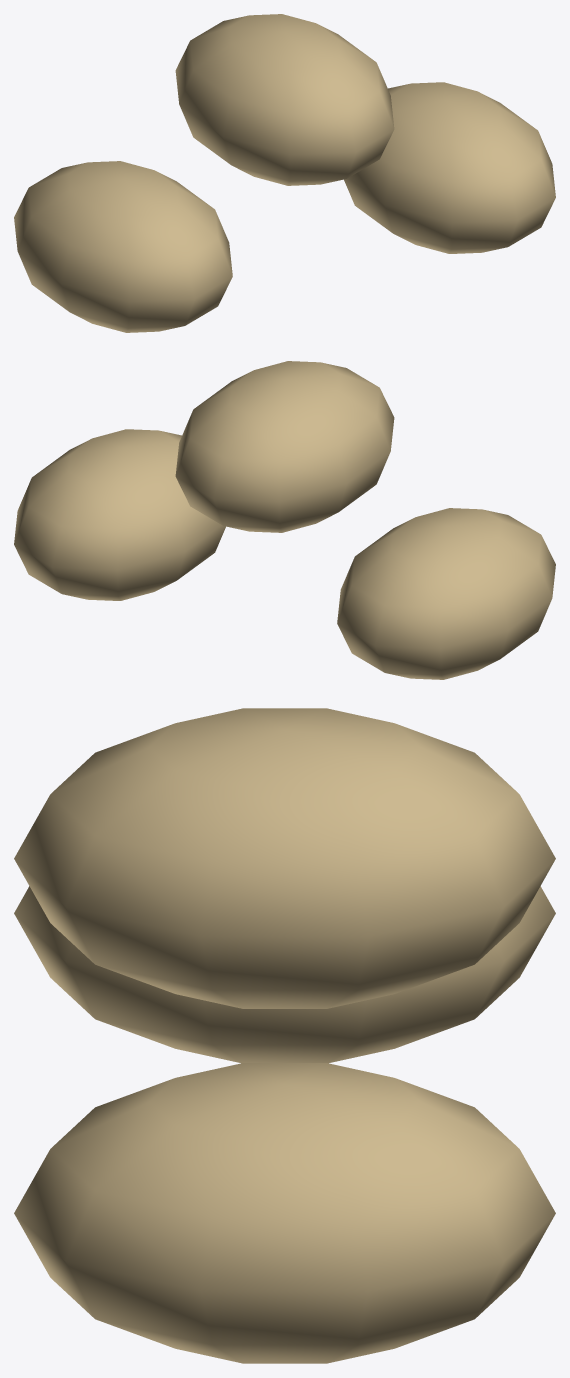
The model's file is prop_karung.glb.
3 views of the same model, one above another, from view 1: azimuth 30°, elevation 25°; view 2: azimuth 150°, elevation 25°; view 3: azimuth 270°, elevation 25° (orthographic). The views are drawn at different scales.
Parts seen in each view (by area): view 1: karung; view 2: karung; view 3: karung.
Part boxes in pixels (bbox=[...]): karung: bbox=[14, 14, 555, 332]; karung: bbox=[14, 361, 555, 679]; karung: bbox=[14, 708, 555, 1363].
Size of the model in its own units: 1.67 by 0.79 by 0.84.
